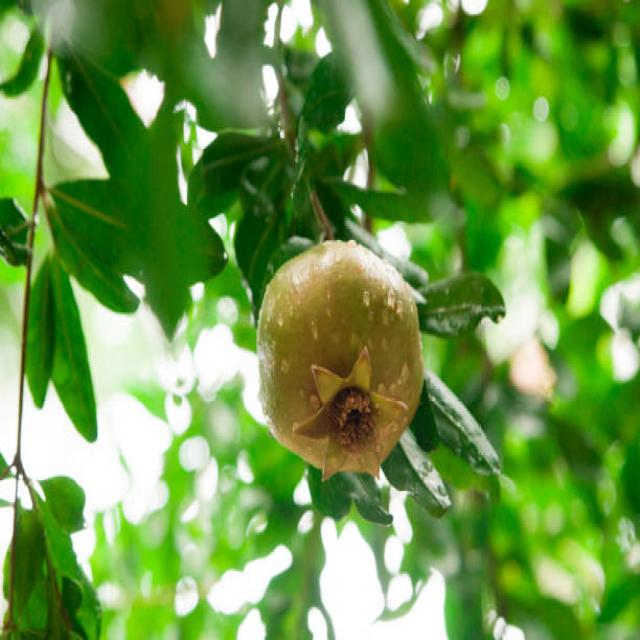Unripe: (254, 235, 420, 480)
